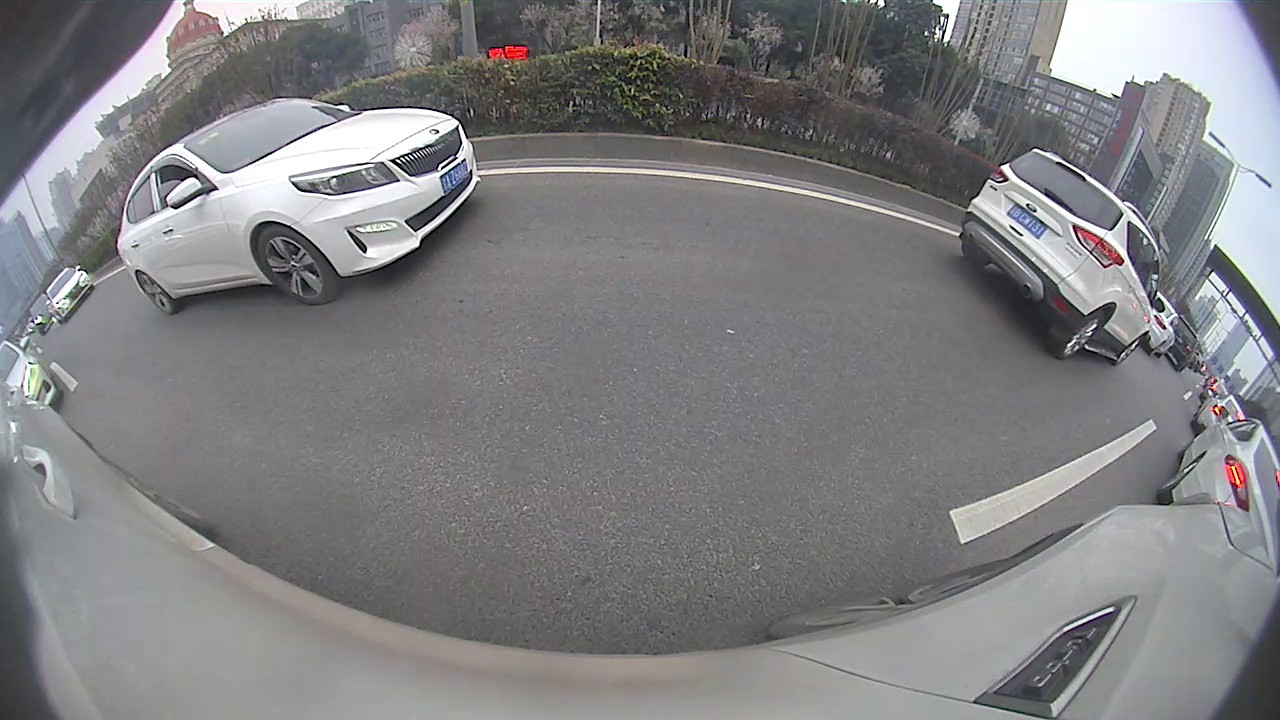car: (112, 100, 480, 317), (955, 147, 1167, 367), (1156, 406, 1279, 535)
front: (258, 228, 337, 306), (1114, 336, 1142, 367)
rear: (1058, 308, 1108, 360), (134, 270, 178, 317)
